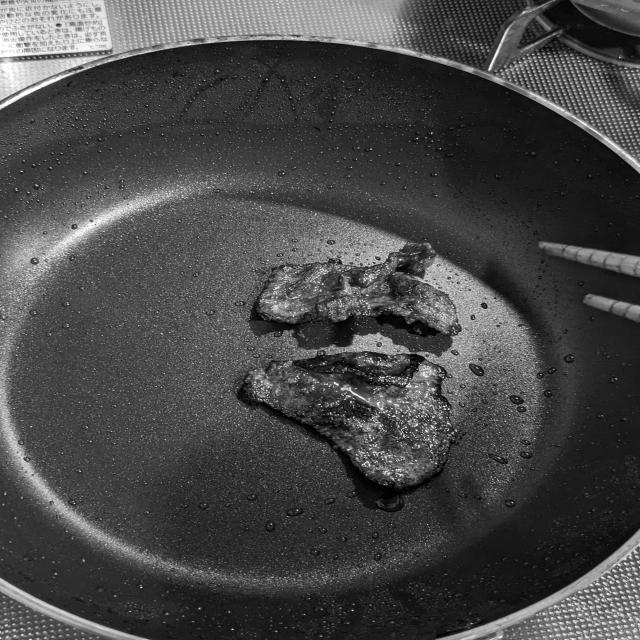overcooked beef,: (232, 343, 465, 498), (239, 235, 468, 340)
